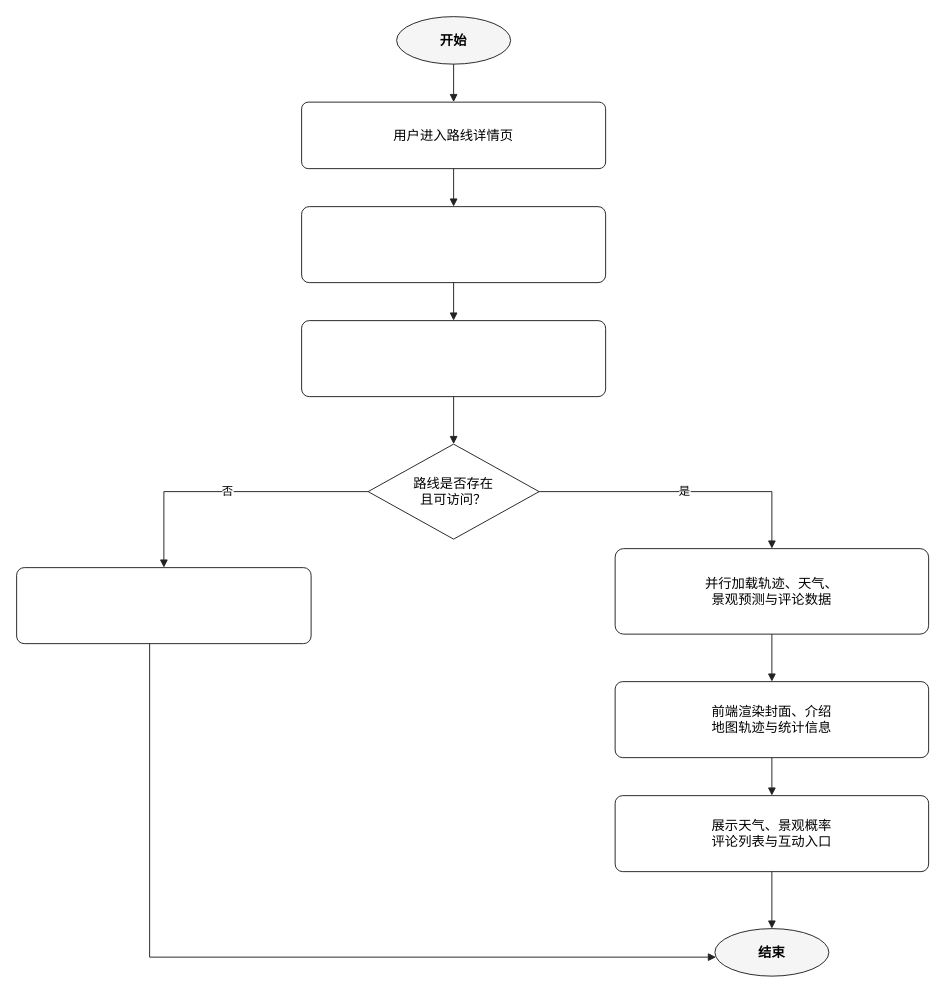
Image size: 945x993. Some labels were removed from this diagram. The centre of each missing label's shape, as x and y in pixels:
"前端请求路线详情 携带路线 ID 与登录态" belongs at point 453,244.
"后端查询路线基础信息 聚合作者、图片与互动状态" belongs at point 453,358.
"返回错误信息 提示路线不存在或无权限" belongs at point 163,605.
